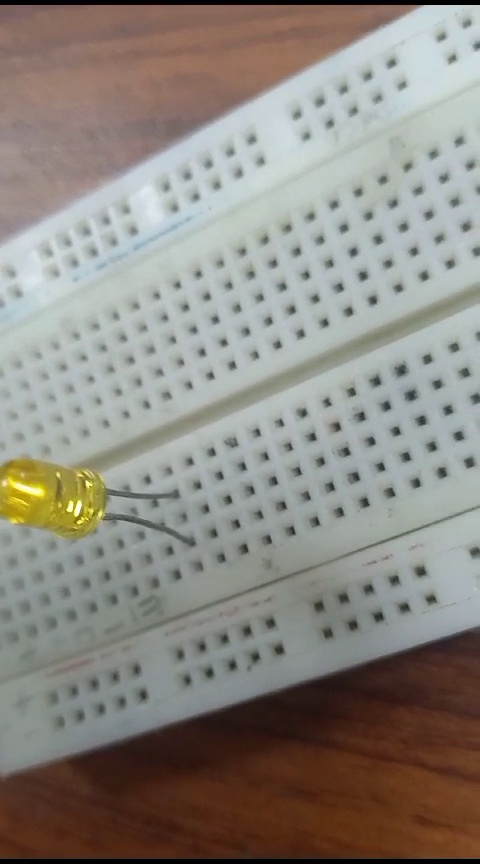LED: (2, 455, 195, 551)
